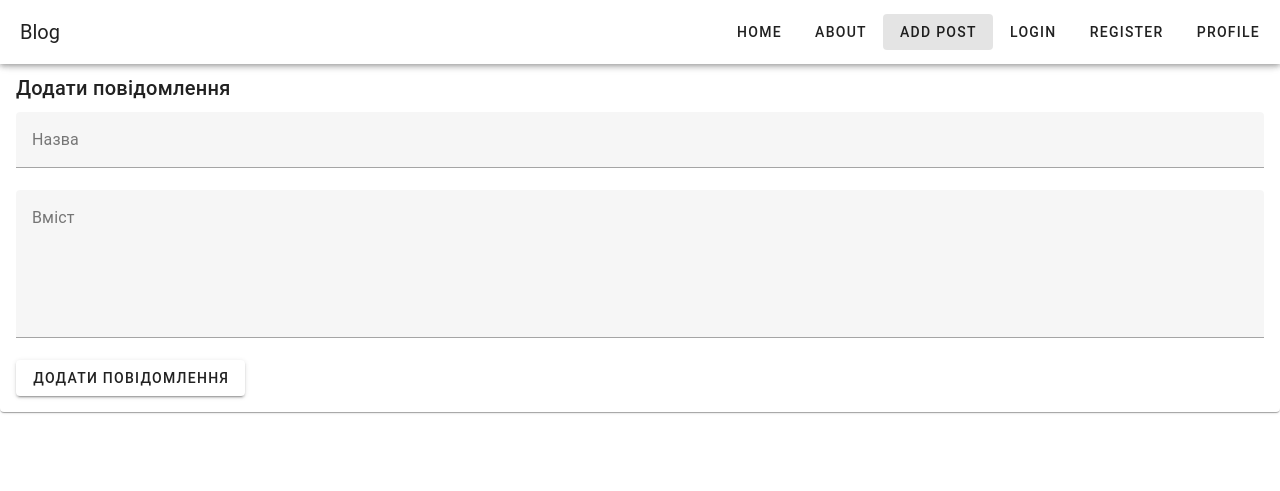
Add Post Page › should show an error if fields are empty
Click the button with test id "add-post-btn". click: (131, 378)
box: x1=16 y1=360 x2=245 y2=396
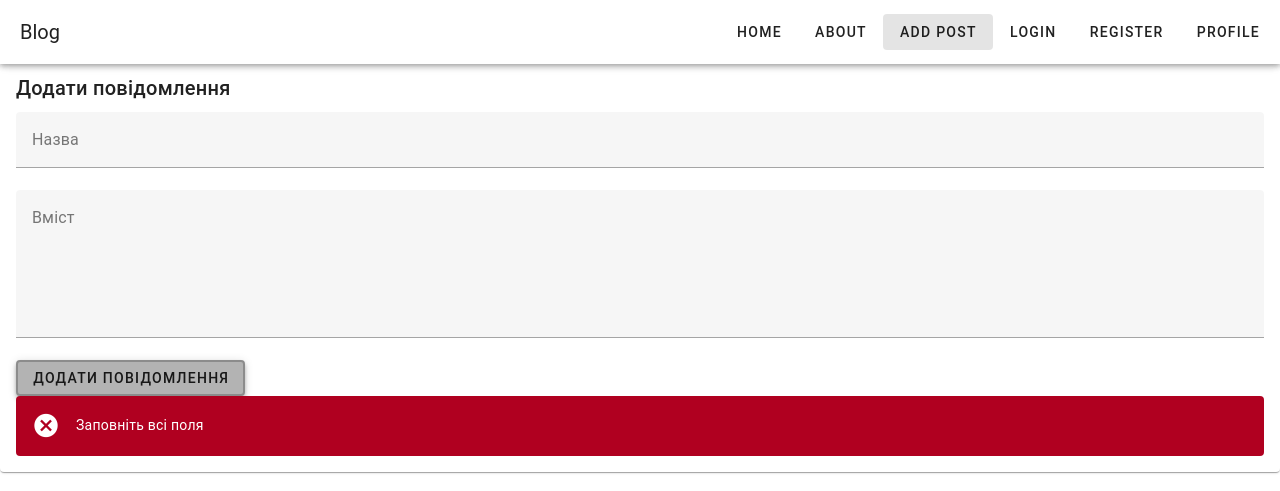
Expected: the text "Заповніть всі поля" is shown, x1=76 y1=417 x2=204 y2=433
